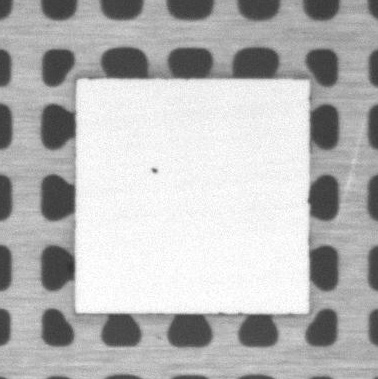DIE_INK: (150, 165, 159, 176)
